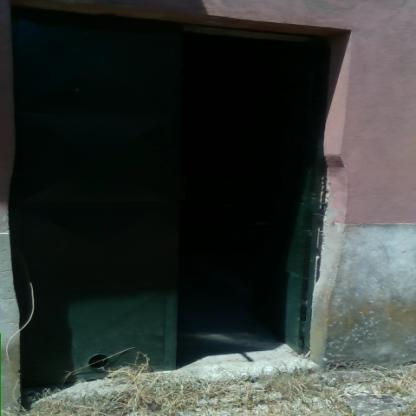open: (0, 4, 351, 391)
